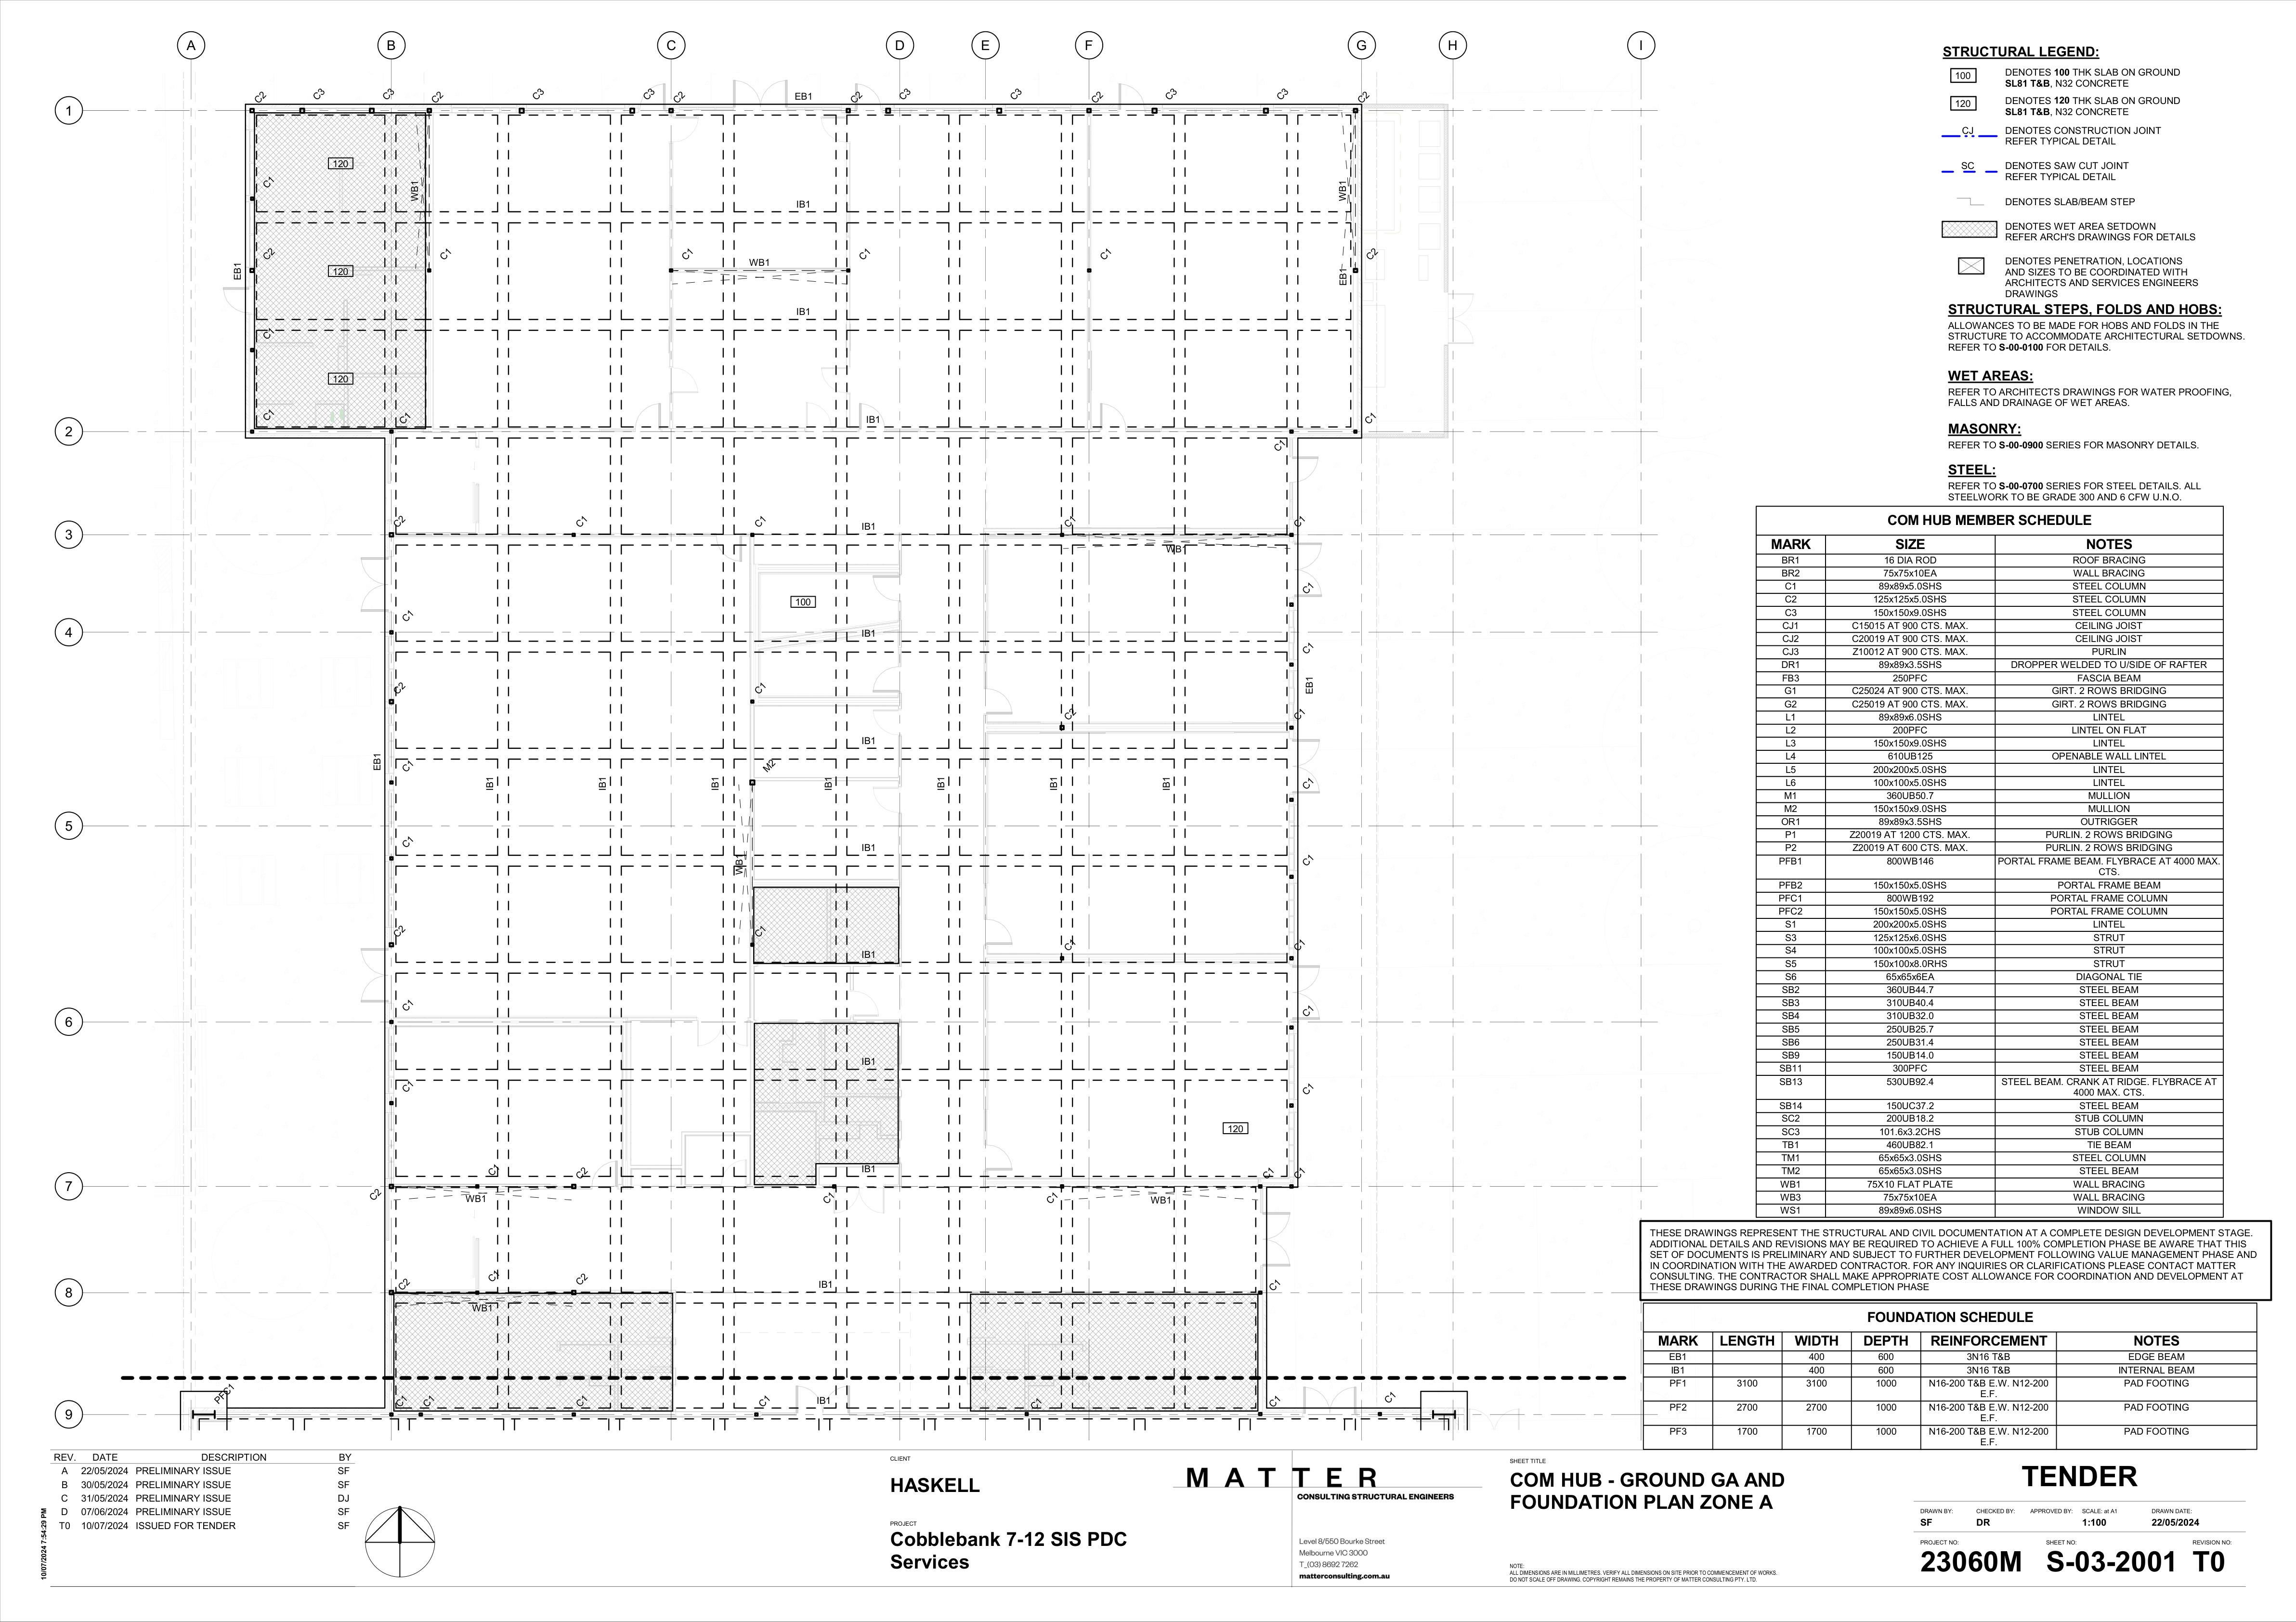C1: (397, 597, 418, 630), (1269, 1383, 1292, 1413), (1095, 244, 1123, 267), (395, 758, 425, 778), (855, 244, 879, 267), (1295, 1078, 1320, 1101), (757, 1389, 778, 1415), (1376, 1389, 1404, 1408), (1295, 850, 1318, 872), (1364, 409, 1385, 434), (1285, 511, 1311, 530), (1292, 578, 1318, 597), (1299, 637, 1318, 664), (395, 405, 416, 428), (1288, 1162, 1311, 1183), (418, 1394, 442, 1413), (437, 244, 458, 265), (743, 681, 774, 695), (1299, 772, 1320, 793), (1257, 1159, 1278, 1180), (818, 1187, 839, 1208), (1292, 936, 1311, 957), (1299, 1001, 1318, 1022), (1267, 1278, 1288, 1297), (1062, 511, 1081, 532), (676, 244, 700, 260), (757, 916, 772, 941), (1062, 934, 1081, 953), (262, 170, 279, 191), (258, 405, 279, 423), (753, 509, 771, 530), (398, 834, 420, 851), (574, 1389, 592, 1410), (390, 1392, 414, 1406), (1046, 1187, 1062, 1208), (484, 1267, 506, 1283), (400, 1078, 418, 1095), (1029, 1396, 1046, 1413), (574, 514, 590, 532), (1294, 706, 1309, 723), (488, 1160, 506, 1176), (262, 328, 281, 342), (1274, 437, 1290, 453), (404, 1001, 416, 1015)
C2: (844, 84, 865, 109), (1364, 242, 1385, 265), (390, 674, 413, 695), (1085, 88, 1111, 105), (393, 1276, 420, 1294), (1352, 88, 1380, 104), (365, 1178, 384, 1201), (576, 1269, 595, 1288), (1062, 707, 1085, 723), (390, 922, 409, 939), (391, 513, 411, 530), (674, 86, 690, 105), (576, 1162, 592, 1180), (253, 86, 269, 102), (260, 248, 276, 263), (432, 91, 448, 105)
C3: (1162, 81, 1192, 109), (1008, 83, 1029, 105), (379, 81, 398, 102), (527, 88, 551, 104), (309, 84, 328, 102), (1274, 86, 1295, 102), (641, 84, 657, 104), (900, 86, 915, 104)
EB1: (225, 255, 249, 284), (790, 83, 818, 105), (363, 746, 384, 774), (1334, 263, 1353, 288)
IB1: (1157, 772, 1180, 799), (855, 832, 881, 855), (853, 514, 881, 535), (1039, 772, 1064, 795), (858, 725, 881, 748), (860, 407, 885, 428), (929, 772, 950, 793), (855, 946, 879, 962), (707, 774, 727, 793), (862, 625, 883, 642), (858, 1160, 881, 1176), (814, 1276, 837, 1292), (795, 300, 814, 318), (597, 776, 613, 797), (795, 193, 814, 209), (481, 774, 497, 793), (858, 1051, 878, 1067), (822, 776, 836, 793), (814, 1392, 832, 1406)
M2: (764, 758, 785, 776)
PFC1: (209, 1382, 242, 1406)
WB1: (1329, 179, 1357, 204), (455, 1190, 491, 1208), (467, 1299, 499, 1317), (405, 179, 427, 205), (1146, 1192, 1178, 1208), (734, 853, 751, 876)
